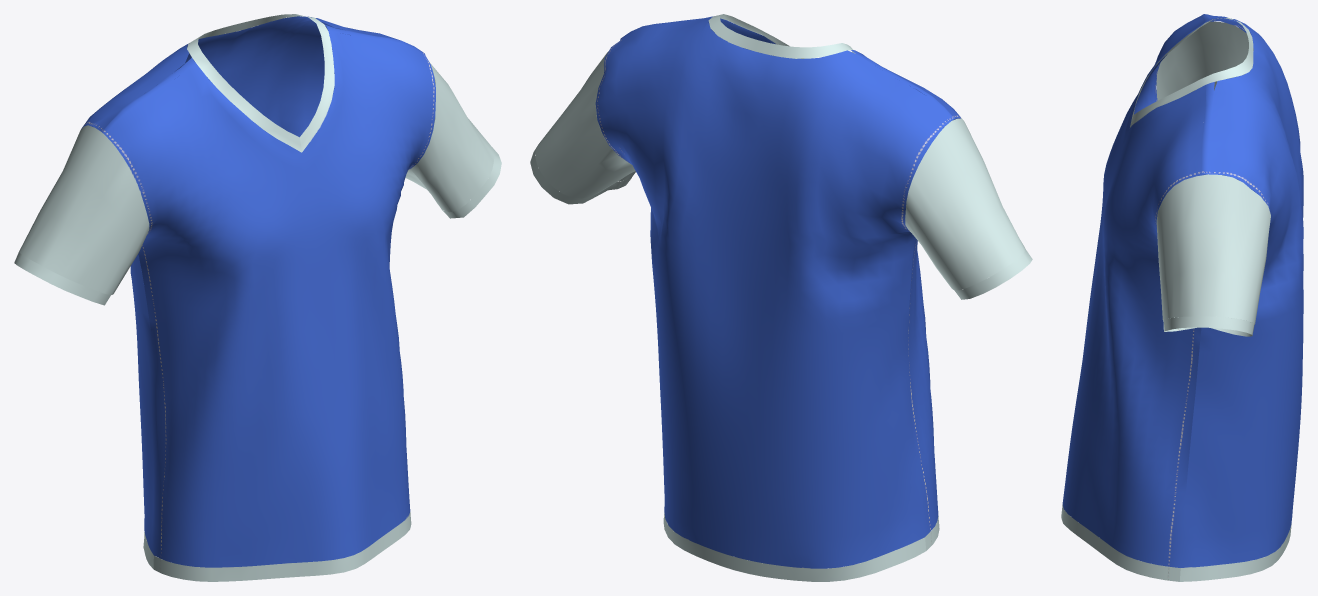
File: V_imjeertei_Tshirt.glb
3 views of the same model, side by side, from view 1: azimuth 30°, elevation 25°; view 2: azimuth 150°, elevation 25°; view 3: azimuth 270°, elevation 25° (orthographic). The views are drawn at different scales.
Parts seen in each view (by area): view 1: 0RetopoMain.004; view 2: 0RetopoMain.004; view 3: 0RetopoMain.004.
Part boxes in pixels (bbox=[...]): 0RetopoMain.004: bbox=[14, 14, 501, 581]; 0RetopoMain.004: bbox=[530, 14, 1032, 581]; 0RetopoMain.004: bbox=[1061, 14, 1303, 581].
Bounding box in the file's own units: 0.7434 × 0.7522 × 0.3384.
1 material, 1 textured.
